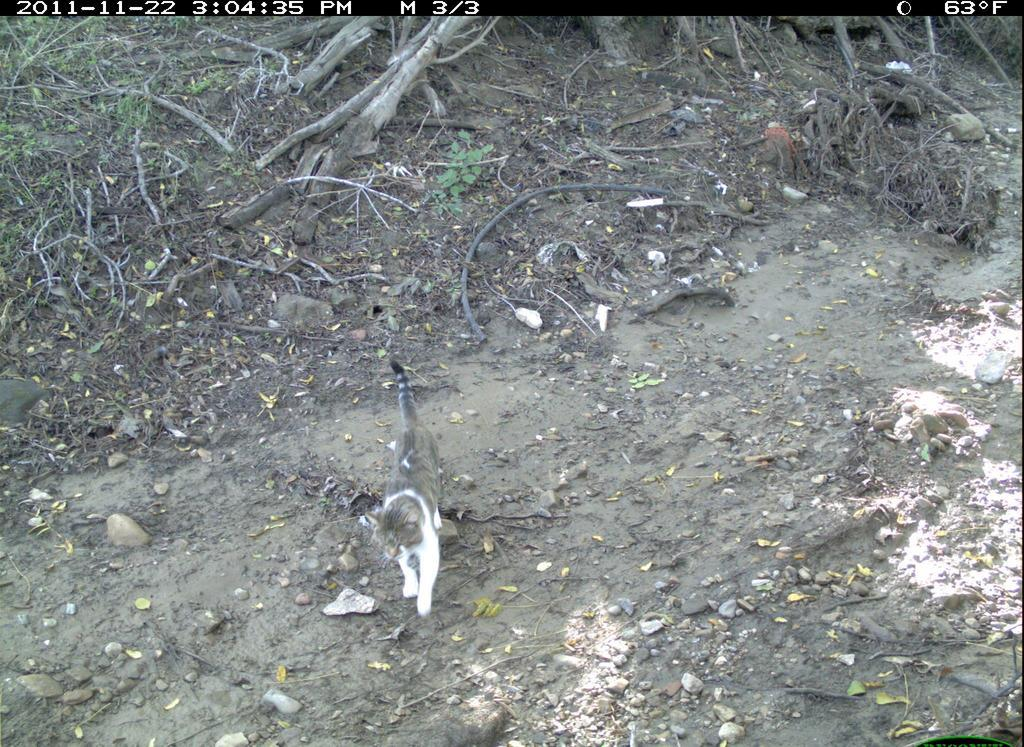cat: (364, 353, 452, 617)
